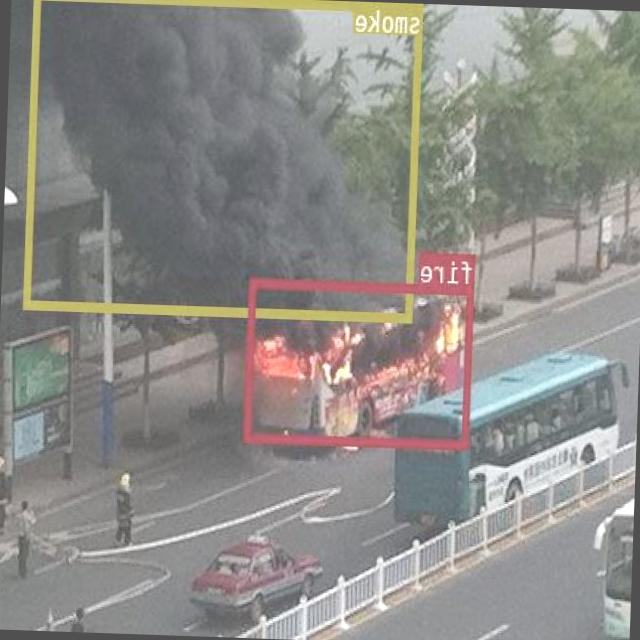fire: (245, 276, 475, 448)
smoke: (24, 0, 423, 319)
